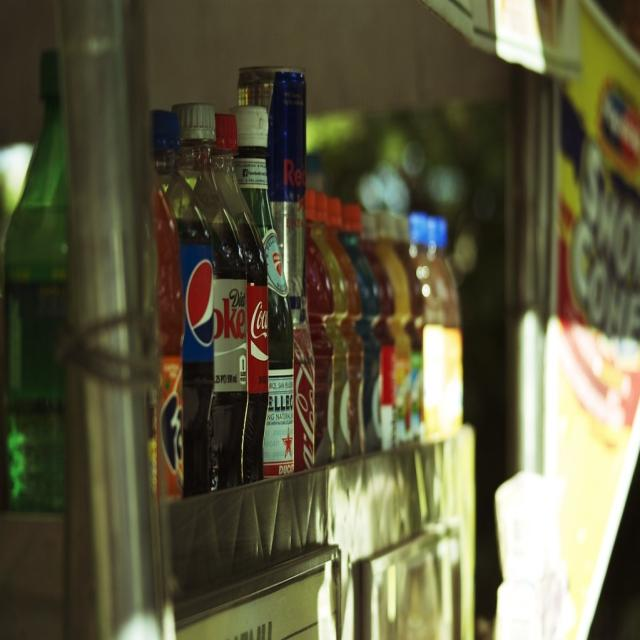Plastics: (155, 87, 262, 490), (325, 194, 468, 428)
can: (267, 64, 314, 292)
